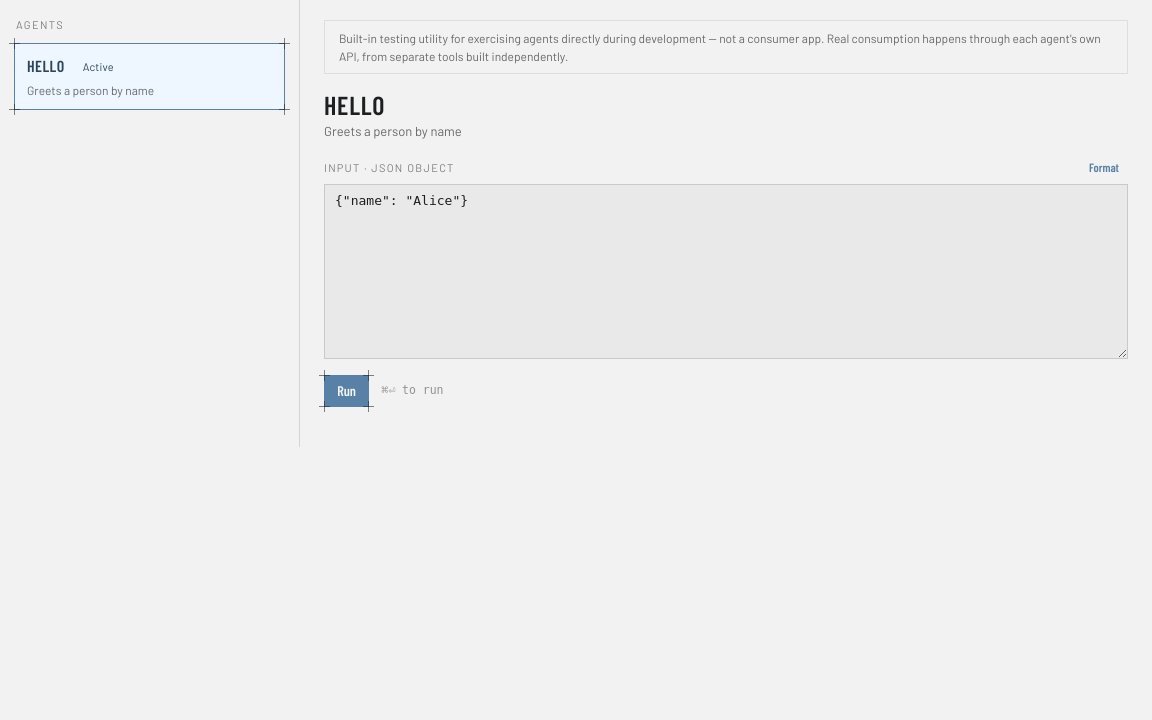
it: RunScreen grading › shows the server's error detail, not a silent failure, when grading fails
What coordinates should you click on to do the following:
click the button "Run"
I would click on:
 (347, 391)
Its box is [324, 375, 369, 407].
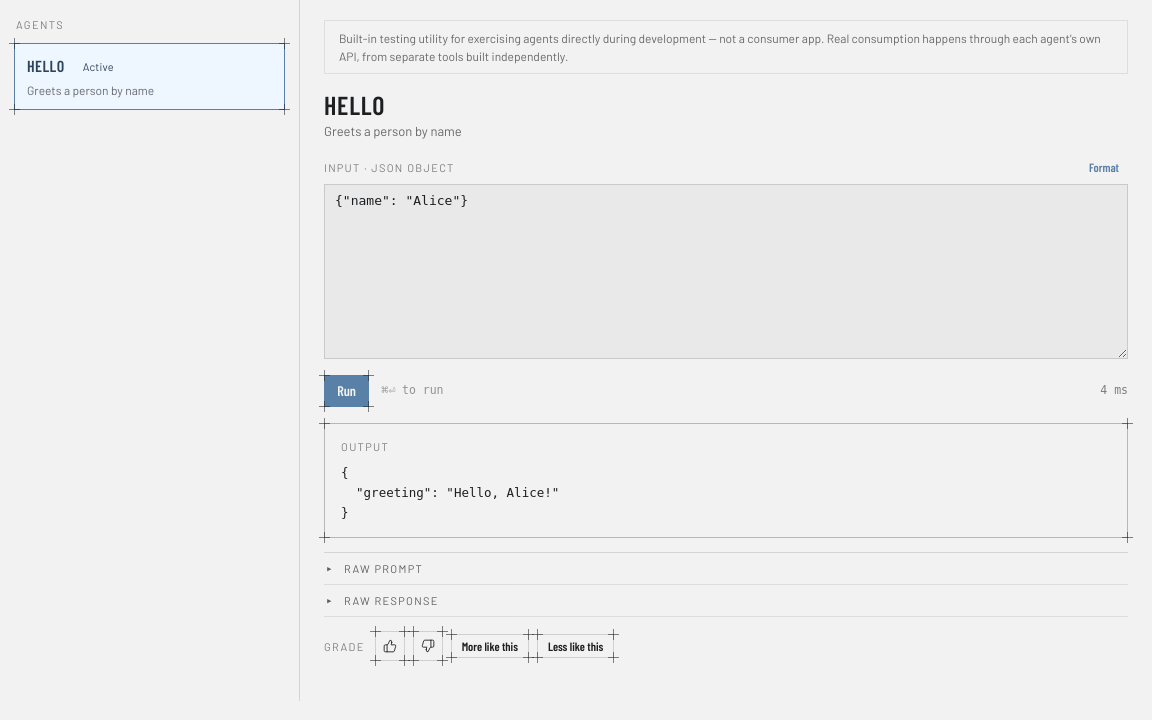
Check: the text "{ \"greeting\": \"Hello, Alice!\" }" is shown, box [341, 465, 559, 520]
What coordinates should you click on to do the following:
click the button named "thumbs up"
I would click on:
 (390, 646)
Its box is [375, 631, 405, 661].
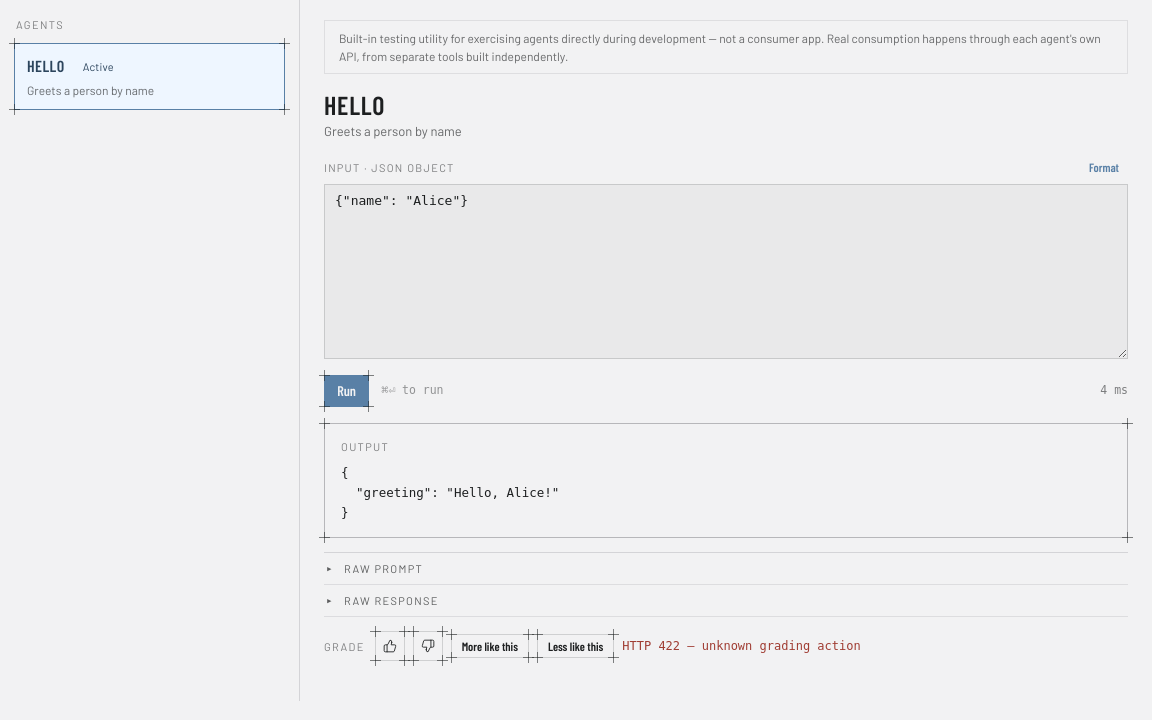
Check: the text "HTTP 422 — unknown grading action" is shown, box [622, 637, 861, 656]
